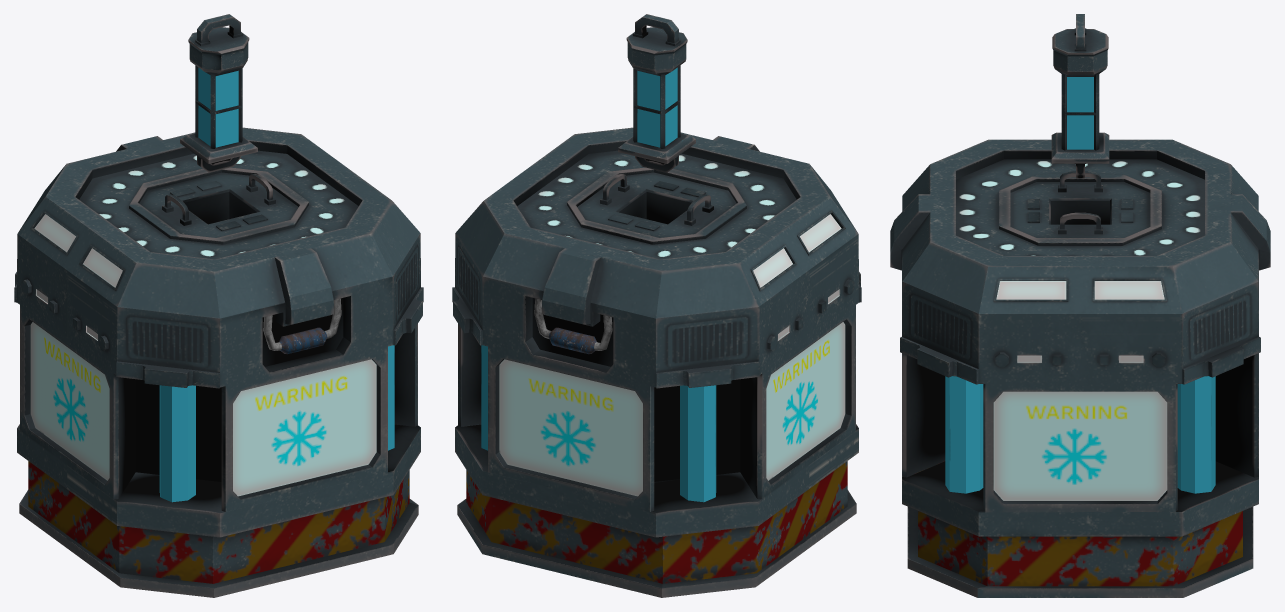
The model's file is m_unique_EH_noAnimsLow.fbx.
The picture shows the model from 3 angles, left to right: view 1: azimuth 30°, elevation 25°; view 2: azimuth 150°, elevation 25°; view 3: azimuth 270°, elevation 25°; orthographic projection.
Visible parts, largest first — view 1: Cube, Cube.002, BezierCurve; view 2: Cube, Cube.002, BezierCurve.003; view 3: Cube, Cube.002.
Part boxes in pixels (left/top/right/bottom): Cube: left=14, top=127, right=423, bottom=597; Cube.002: left=180, top=14, right=257, bottom=172; BezierCurve: left=263, top=298, right=341, bottom=354; Cube: left=452, top=127, right=861, bottom=597; Cube.002: left=618, top=14, right=695, bottom=172; BezierCurve.003: left=534, top=298, right=612, bottom=354; Cube: left=890, top=139, right=1270, bottom=597; Cube.002: left=1051, top=14, right=1109, bottom=178.
Bounding box in the file's own units: 85.3 × 130 × 88.88.
